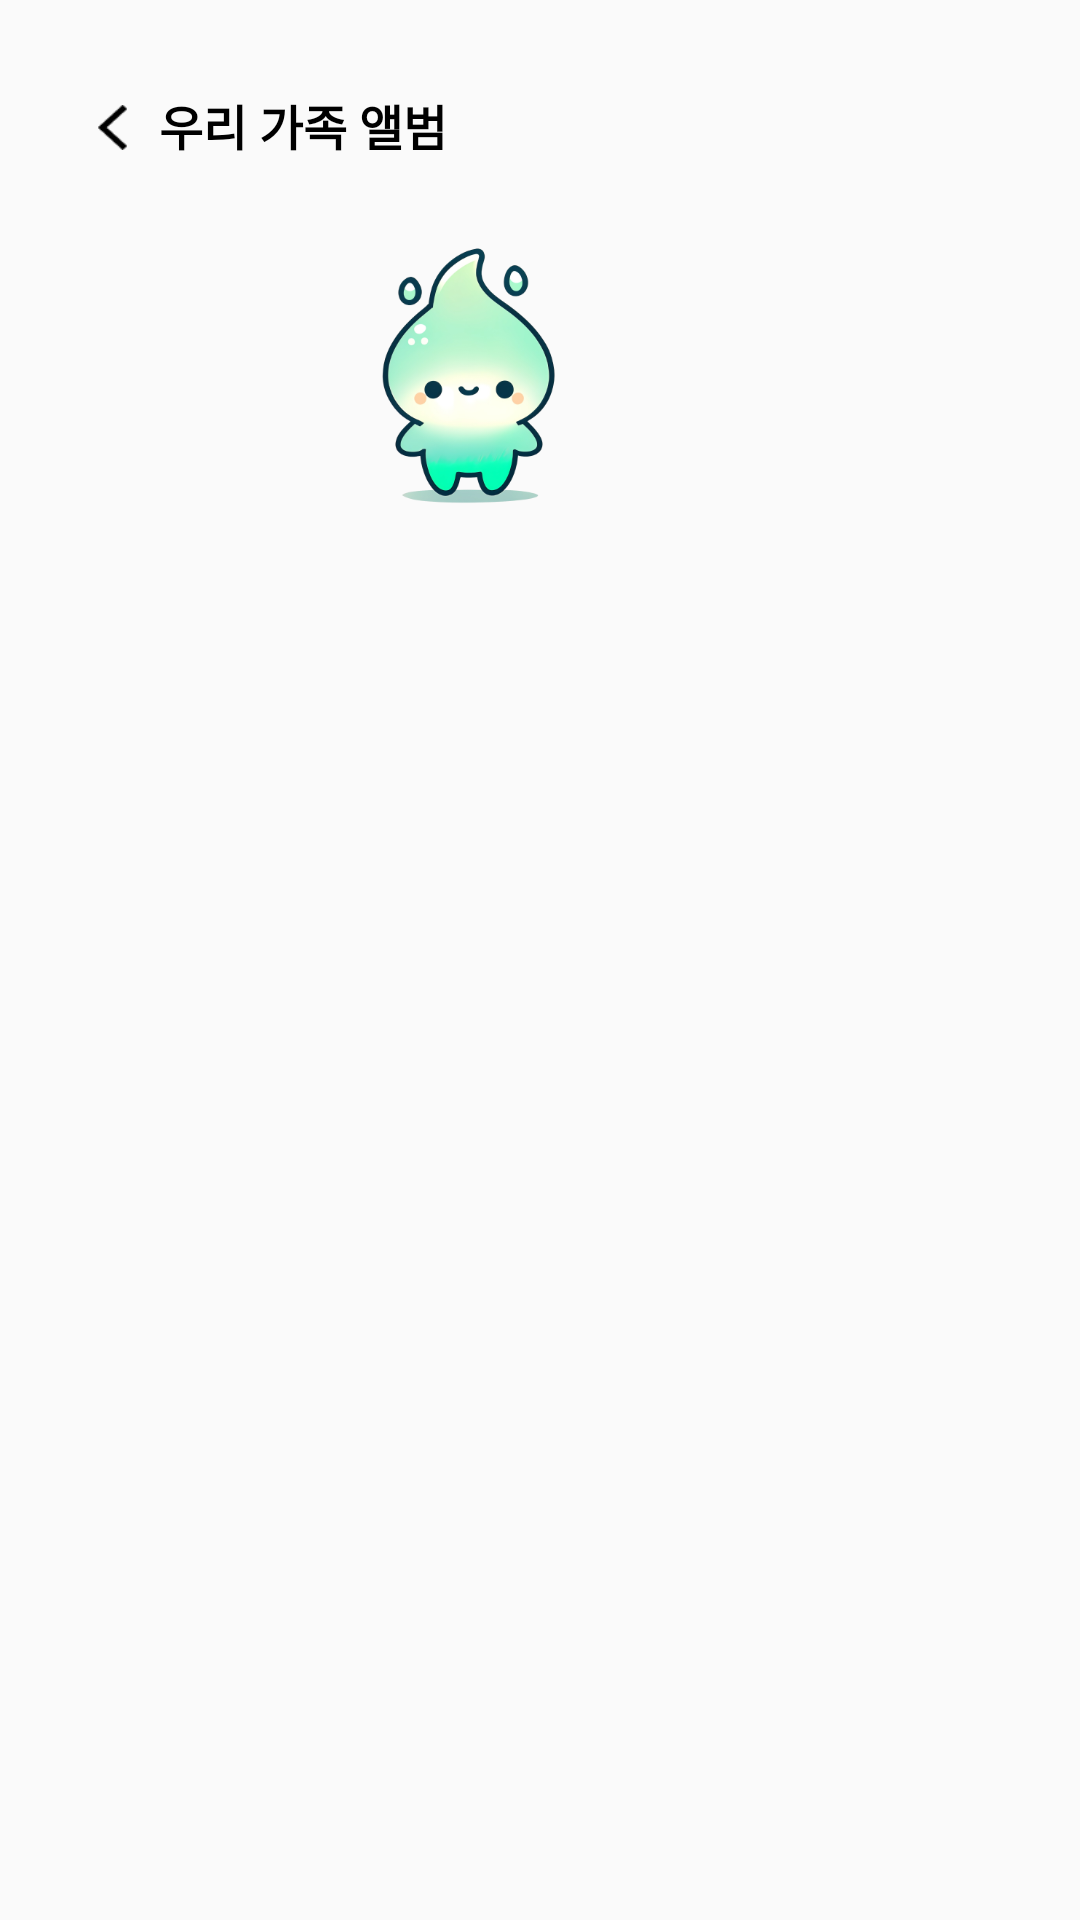

Where to tap for icons on this 1080*1920 app screen, as (x=x, y=y):
arrow left: (x=112, y=127)
character: (x=468, y=375)
